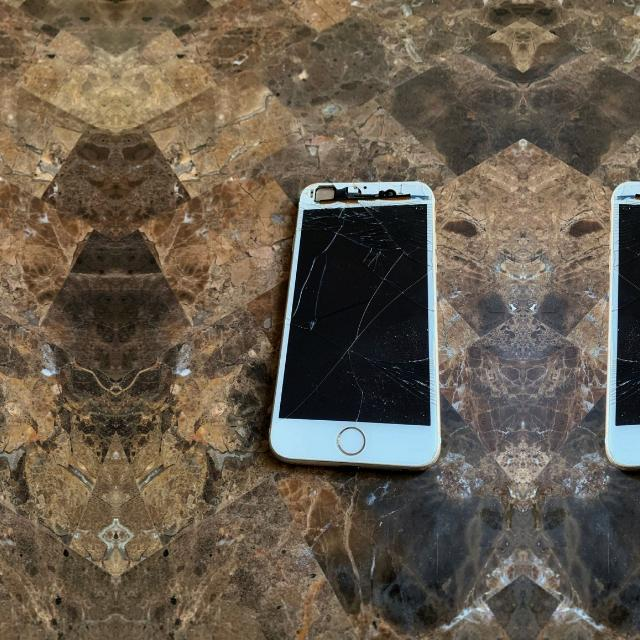phone_screen: (279, 204, 429, 425), (616, 204, 639, 425)
